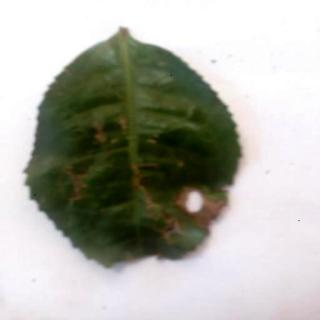Brown Blight: (25, 28, 245, 270)
